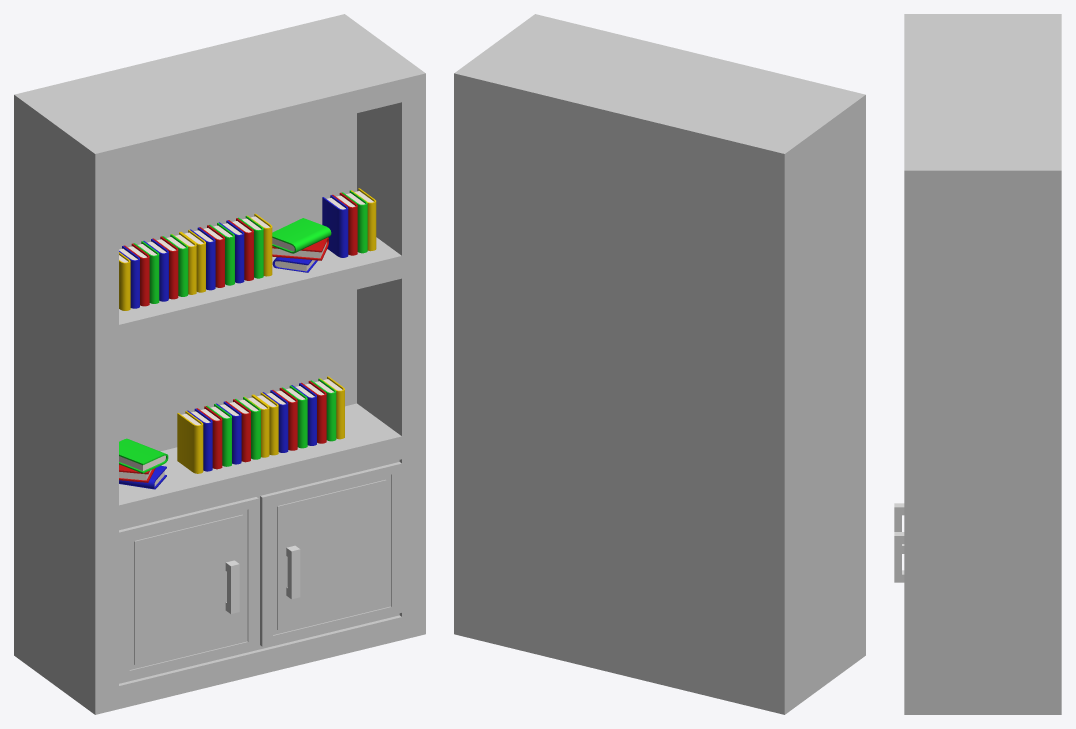
Rendered from lemari.fbx.
3 renders of one model, left to right at view 1: azimuth 30°, elevation 25°; view 2: azimuth 150°, elevation 25°; view 3: azimuth 270°, elevation 25°, orthographic. The views are drawn at different scales.
Parts seen in each view (by area): view 1: Cube.008, Cube.020, Cube.058, Cube.052, Cube.019, Cube.031, Cube.039, Cube.022, Cube.042, Cube.054, Cube.029, Cube.034 (+24 smaller); view 2: Cube.008; view 3: Cube.008.
Part boxes in pixels (x1,y1,x2,y2): Cube.008: [14, 14, 425, 714]; Cube.020: [177, 411, 203, 473]; Cube.058: [272, 218, 331, 253]; Cube.052: [322, 195, 348, 257]; Cube.019: [119, 438, 168, 473]; Cube.031: [282, 385, 307, 448]; Cube.039: [133, 241, 159, 303]; Cube.022: [196, 406, 222, 469]; Cube.042: [162, 234, 188, 296]; Cube.054: [341, 190, 367, 253]; Cube.029: [262, 390, 288, 452]; Cube.034: [310, 378, 336, 441]; Cube.008: [454, 14, 865, 714]; Cube.008: [894, 14, 1061, 714].
Bounding box in the file's own units: 134 × 217 × 60.33.
